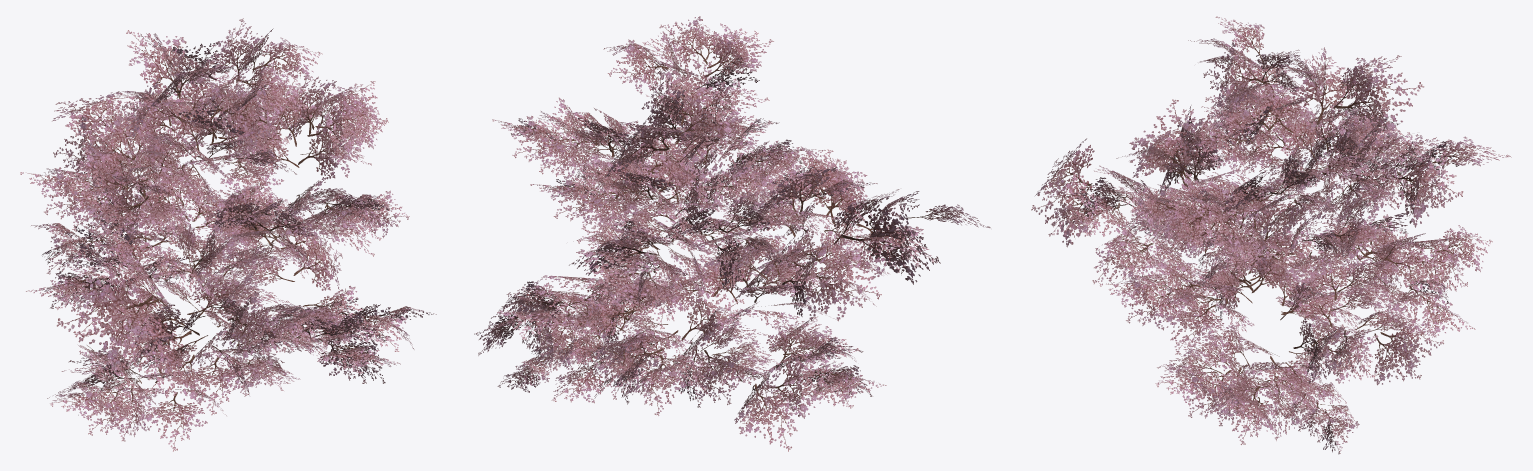
The model's file is Yland1_yz_04 Yland1.FBX.
3 renders of one model, left to right at view 1: azimuth 30°, elevation 25°; view 2: azimuth 150°, elevation 25°; view 3: azimuth 270°, elevation 25°, orthographic. The views are drawn at different scales.
Parts seen in each view (by area): view 1: Yland1_yz_04 Yland1; view 2: Yland1_yz_04 Yland1; view 3: Yland1_yz_04 Yland1.
Part boxes in pixels (left/top/right/bottom): Yland1_yz_04 Yland1: left=20, top=18, right=436, bottom=451; Yland1_yz_04 Yland1: left=474, top=16, right=990, bottom=451; Yland1_yz_04 Yland1: left=1031, top=16, right=1511, bottom=454.
Size of the model in its own units: 6.03 by 5.18 by 6.43.
